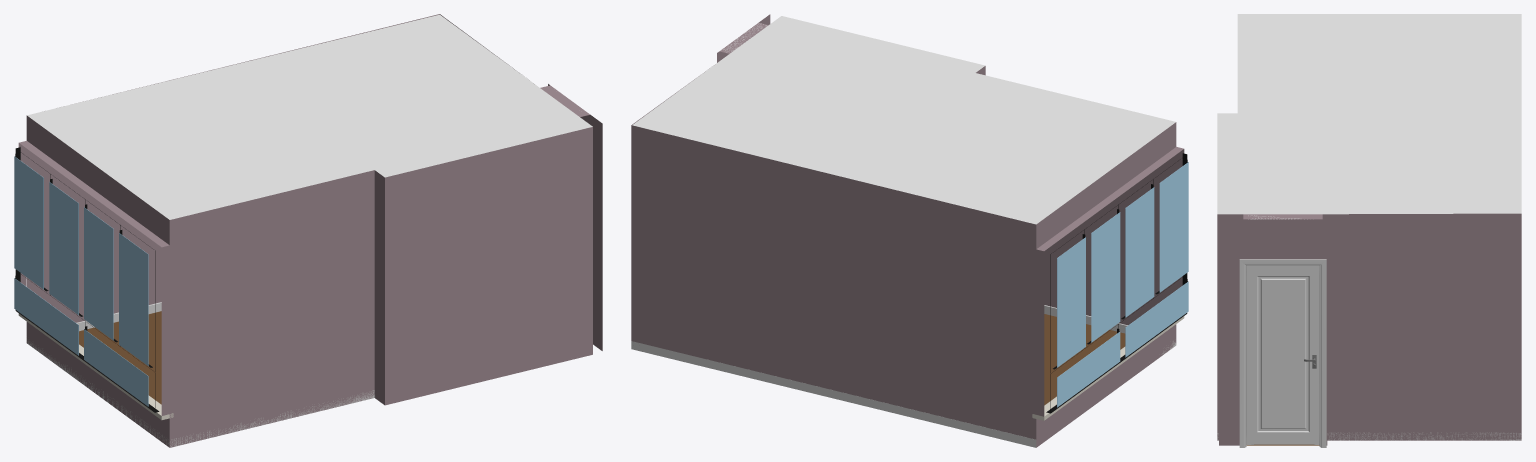
File: house.FBX
3 renders of one model, left to right at view 1: azimuth 30°, elevation 25°; view 2: azimuth 150°, elevation 25°; view 3: azimuth 270°, elevation 25°, orthographic. The views are drawn at different scales.
Parts seen in each view (by area): view 1: wall, ceiling, glass, floor, plinth, windows, windowsill; view 2: wall, ceiling, glass, plinth, floor, windows, windowsill; view 3: ceiling, wall, door, plinth.
Part boxes in pixels (x1,y1,x2,y2): wall: (18,14,602,447); ceiling: (27,14,592,219); glass: (14,156,148,406); floor: (79,311,161,404); plinth: (27,302,375,447); windows: (15,147,159,412); windowsill: (18,313,173,420); wall: (631,14,1184,447); ceiling: (632,16,1175,224); glass: (1057,162,1188,407); plinth: (631,305,1176,447); floor: (1044,314,1125,405); windows: (1046,153,1187,413); windowsill: (1032,316,1184,420); ceiling: (1217,14,1521,219); wall: (1217,213,1521,445); door: (1239,259,1326,447); plinth: (1217,432,1521,440).
Size of the model in its own units: 5516 by 2711 by 3290.
